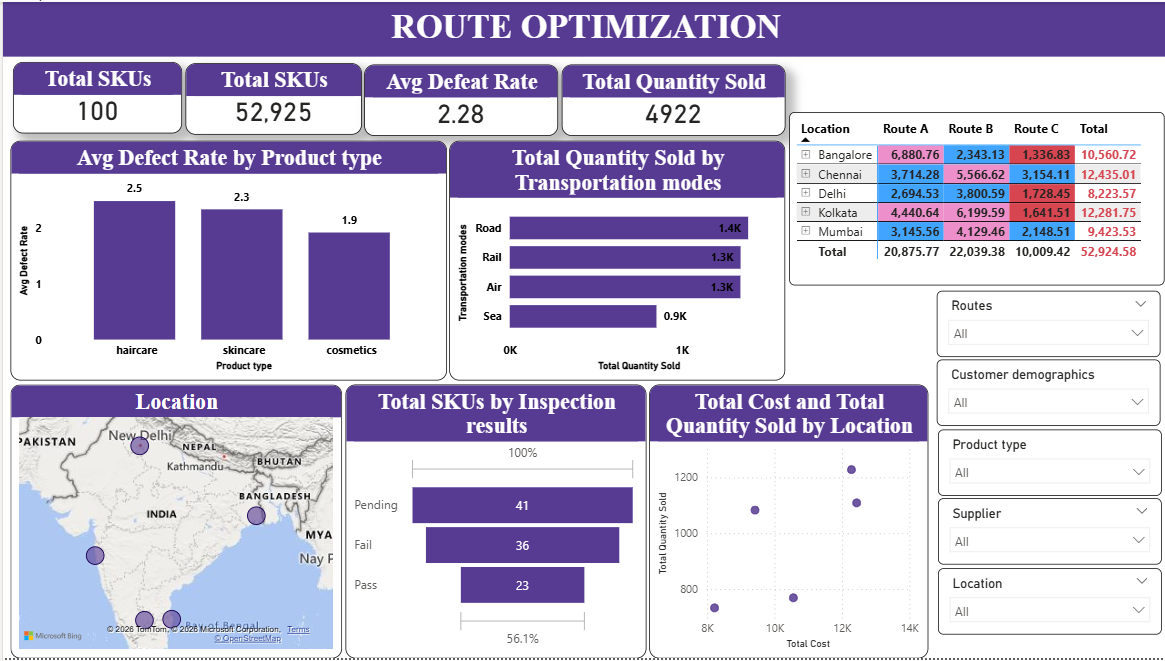

Layout of this report page (visuals, bound fields, positions):
{"tool":"powerbi","page":{"name":"Dashboard","canvas":[1280,720],"ordinal":0},"visuals":[{"type":"card","title":"Total SKUs","fields":{"Values":["supply_chain_data.Total SKUs"]},"box":[11,65.5,185.2,78.2],"z":0},{"type":"textbox","box":[0,0,1280.3,60.4],"z":1000},{"type":"card","title":"Total SKUs","fields":{"Values":["supply_chain_data.Total Cost"]},"box":[200.3,66.8,193.5,78.2],"z":2000},{"type":"card","title":"Avg Defeat Rate","fields":{"Values":["supply_chain_data.Avg Defect Rate"]},"box":[396.6,68.2,212.7,78.2],"z":3000},{"type":"card","title":"Total Quantity Sold","fields":{"Values":["supply_chain_data.Total Quantity Sold"]},"box":[613.4,68.2,245.6,78.2],"z":4000},{"type":"columnChart","fields":{"Category":["supply_chain_data.Product type"],"Y":["supply_chain_data.Avg Defect Rate"]},"box":[8.2,152.3,478.9,263.5],"z":5000},{"type":"barChart","fields":{"Category":["supply_chain_data.Transportation modes"],"Y":["supply_chain_data.Total Quantity Sold"]},"box":[489.9,152.3,369.1,263.5],"z":6000},{"type":"map","fields":{"Category":["supply_chain_data.Location"]},"box":[8.2,419.5,363.6,300.5],"z":7000},{"type":"funnel","fields":{"Category":["supply_chain_data.Inspection results"],"Y":["supply_chain_data.Total SKUs"]},"box":[376,419.5,330.7,300.5],"z":8000},{"type":"scatterChart","fields":{"X":["supply_chain_data.Total Cost"],"Y":["supply_chain_data.Total Quantity Sold"],"Category":["supply_chain_data.Location"]},"box":[709.4,419.9,306,300.5],"z":9000},{"type":"pivotTable","fields":{"Rows":["supply_chain_data.Location","supply_chain_data.Product type"],"Columns":["supply_chain_data.Routes"],"Values":["supply_chain_data.Total Cost"]},"box":[863.1,120.8,411.7,190.7],"z":10000},{"type":"slicer","fields":{"Values":["supply_chain_data.Customer demographics"]},"box":[1025,392.5,245.6,72.7],"z":12000},{"type":"slicer","fields":{"Values":["supply_chain_data.Product type"]},"box":[1026.4,469.3,245.6,72.7],"z":13000},{"type":"slicer","fields":{"Values":["supply_chain_data.Location"]},"box":[1026.4,621.6,245.6,72.7],"z":14000},{"type":"slicer","fields":{"Values":["supply_chain_data.Supplier name"]},"box":[1026.4,544.8,245.6,72.7],"z":15000},{"type":"slicer","fields":{"Values":["supply_chain_data.Routes"]},"box":[1025,317,245.6,72.7],"z":16000}]}

Visuals, with their boxes in screenshot pixels (x1, y1, x2, y2), scaled from the page's 1280x720 canvas onto the 1165x661 screenshot:
"Total SKUs" card: bbox(10, 60, 179, 132)
textbox: bbox(0, 0, 1164, 55)
"Total SKUs" card: bbox(182, 61, 358, 133)
"Avg Defeat Rate" card: bbox(361, 63, 555, 134)
"Total Quantity Sold" card: bbox(558, 63, 782, 134)
columnChart - supply_chain_data.Product type x supply_chain_data.Avg Defect Rate: bbox(7, 140, 443, 382)
barChart - supply_chain_data.Transportation modes x supply_chain_data.Total Quantity Sold: bbox(446, 140, 782, 382)
map - supply_chain_data.Location: bbox(7, 385, 338, 660)
funnel - supply_chain_data.Inspection results x supply_chain_data.Total SKUs: bbox(342, 385, 643, 660)
scatterChart - supply_chain_data.Total Cost x supply_chain_data.Total Quantity Sold: bbox(646, 385, 924, 660)
pivotTable - supply_chain_data.Location x supply_chain_data.Product type: bbox(786, 111, 1160, 286)
slicer - supply_chain_data.Customer demographics: bbox(933, 360, 1156, 427)
slicer - supply_chain_data.Product type: bbox(934, 431, 1158, 498)
slicer - supply_chain_data.Location: bbox(934, 571, 1158, 637)
slicer - supply_chain_data.Supplier name: bbox(934, 500, 1158, 567)
slicer - supply_chain_data.Routes: bbox(933, 291, 1156, 358)
